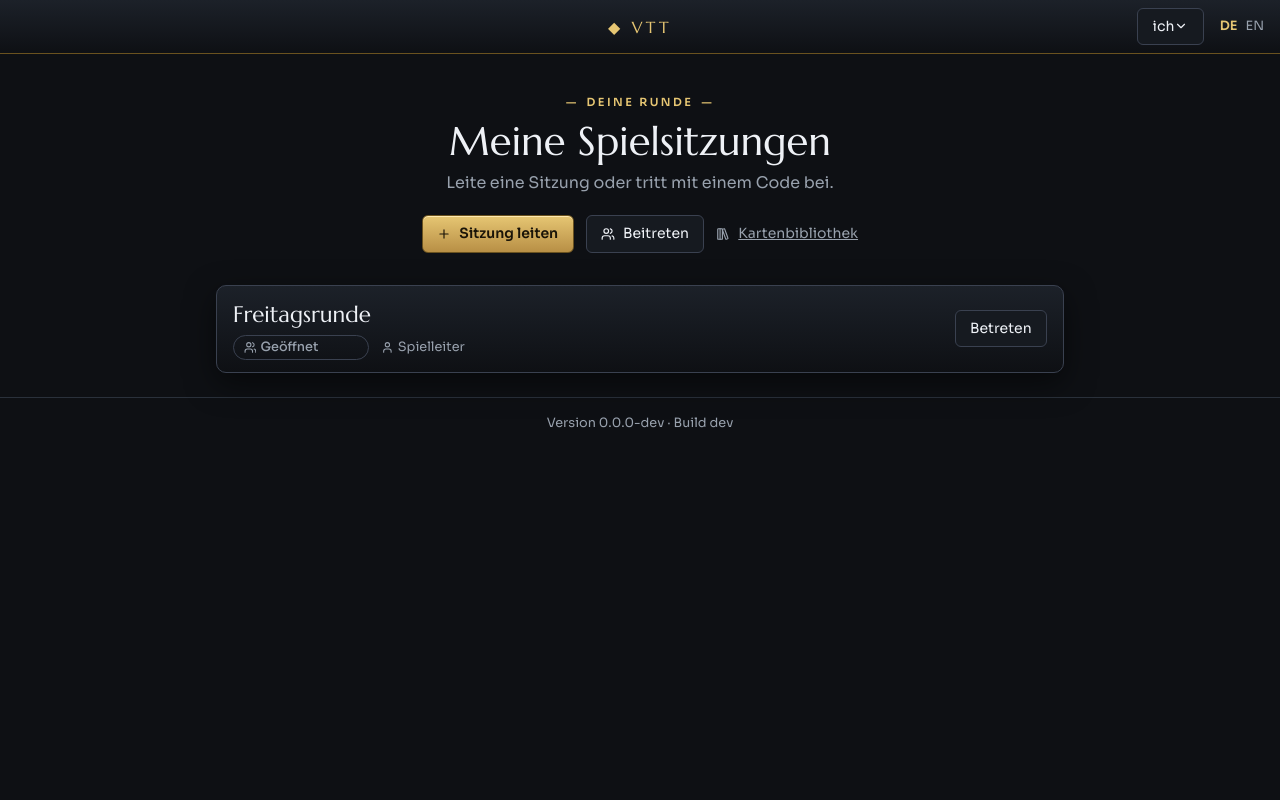
Test case: Bereich speichern sendet die Absicht und leert die Auswahl
Expected: the heading "Freitagsrunde" is shown, [233,300,371,328]
Click the button "Betreten" at coordinates (1001, 328), box [955,310,1047,347]
(page scrolled)
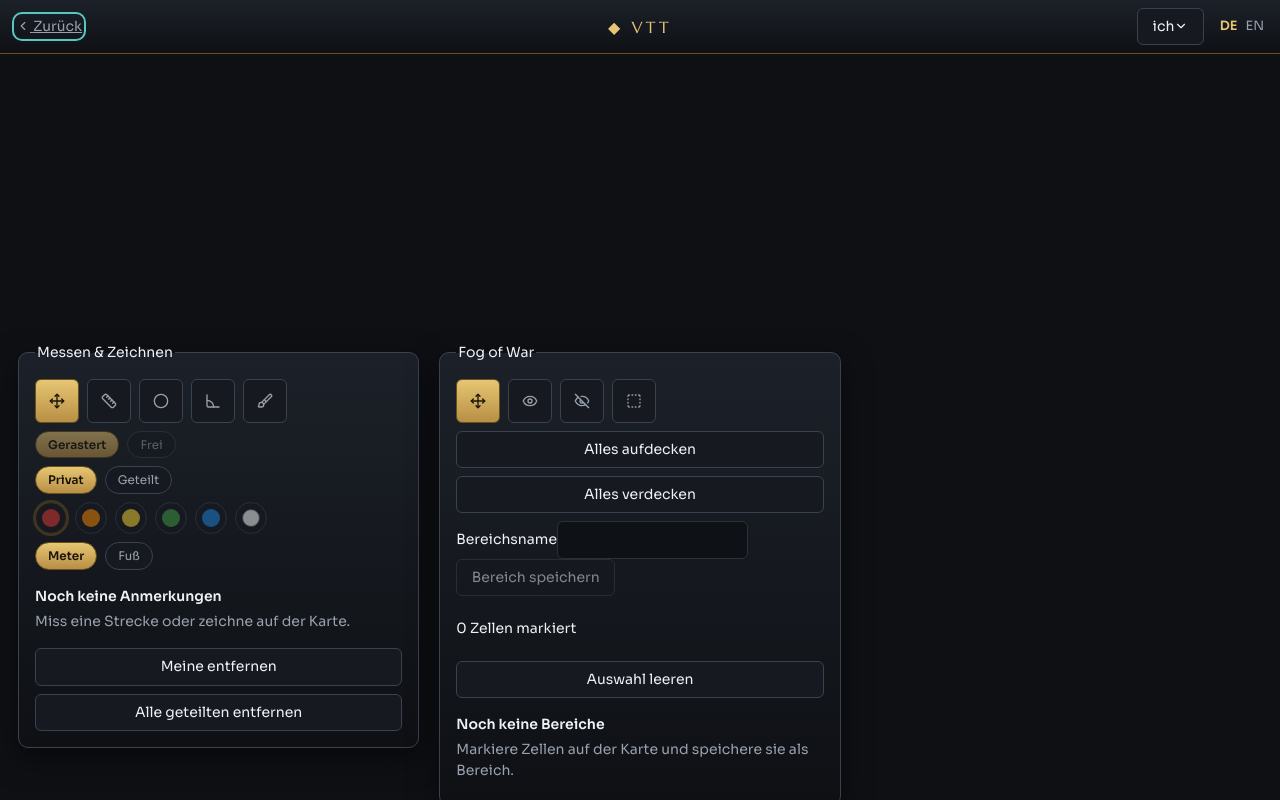
Click the button named "Bereich markieren" at coordinates (634, 401), box [612,379,656,423]
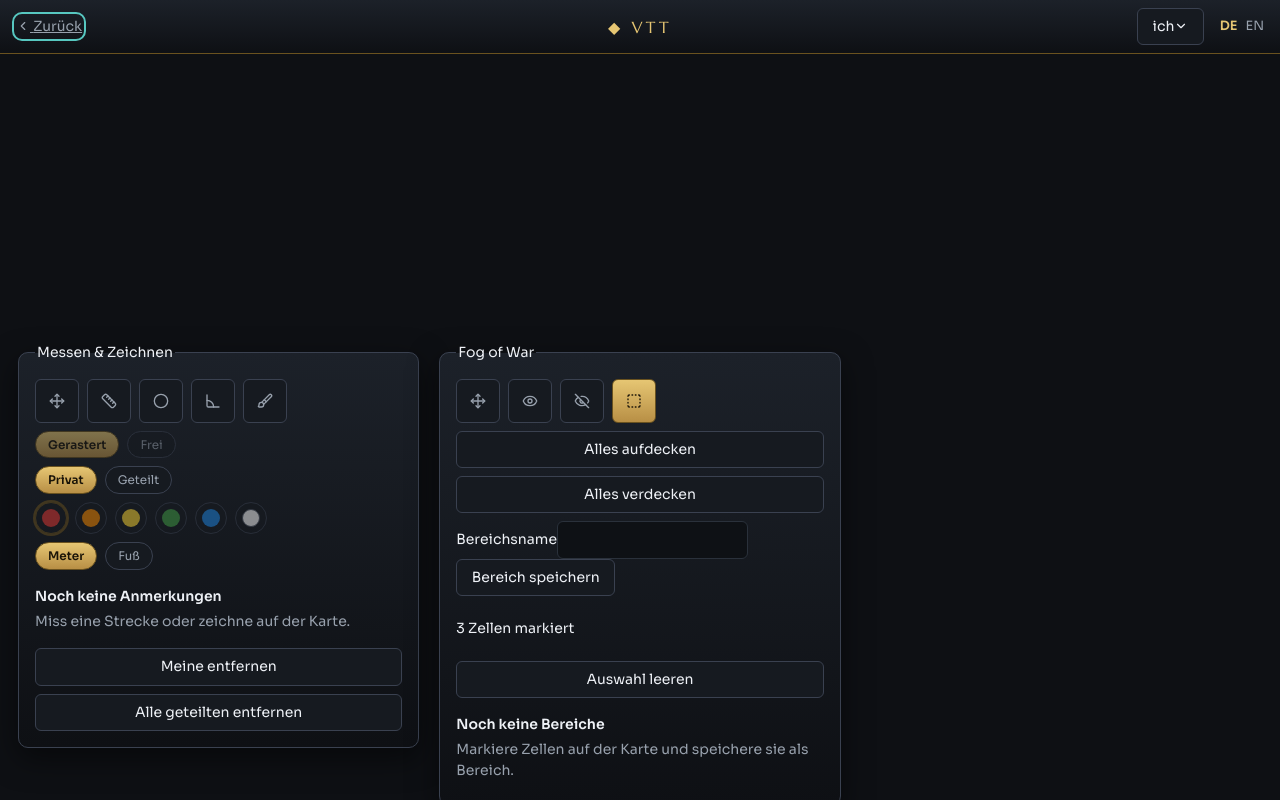
Type "Raum 1" into the field labelled "Bereichsname" at coordinates (653, 540), box [557,521,748,559]
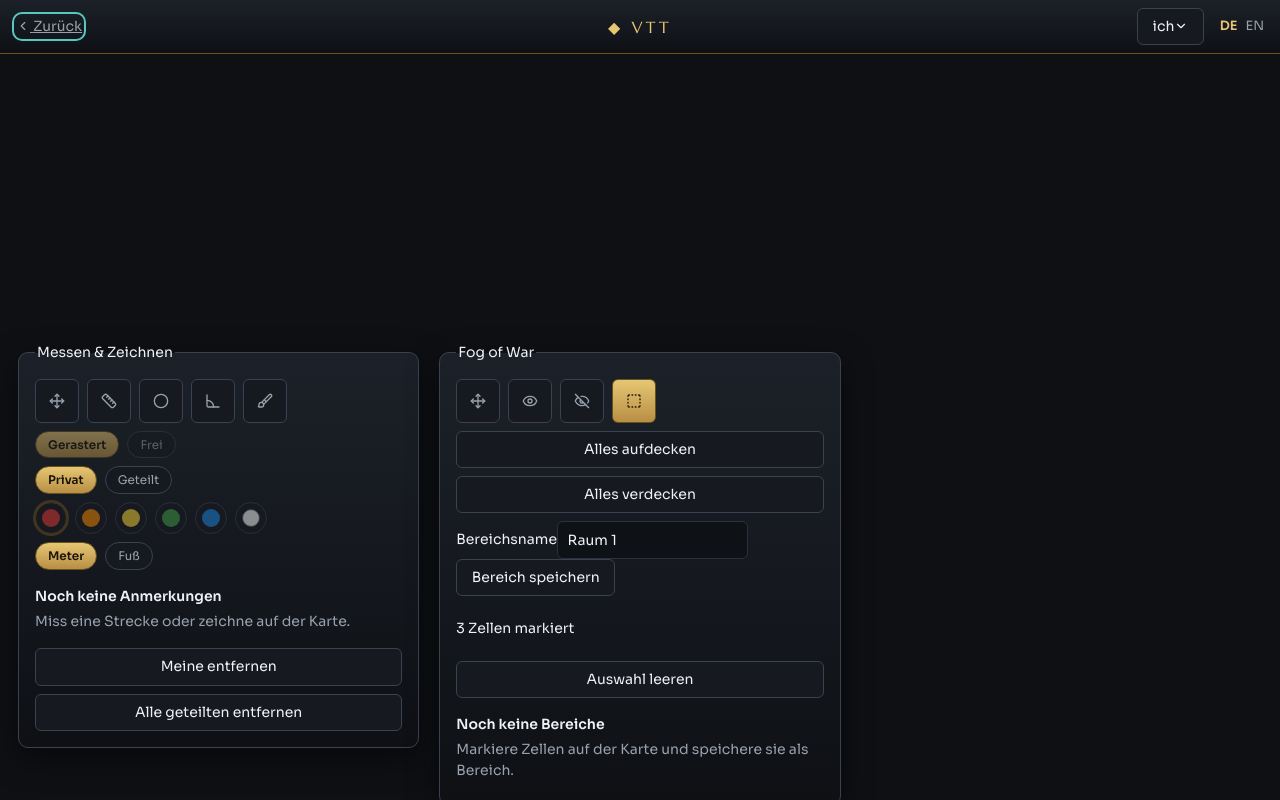
Click the button "Bereich speichern" at coordinates (536, 577), box [456,559,615,596]
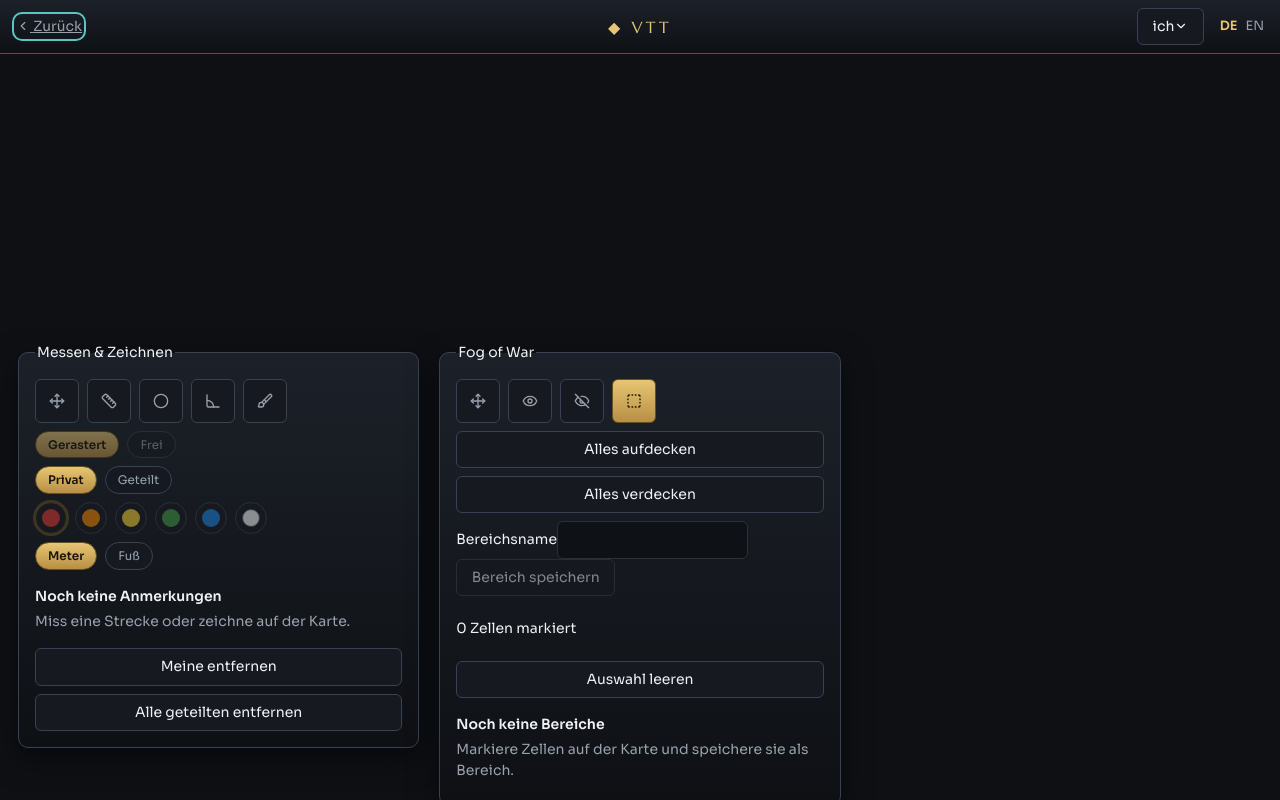
Expected: the text "0 Zellen markiert" is shown, [456,619,576,637]
Expected: the button "Bereich speichern" is disabled, [456,559,615,596]
